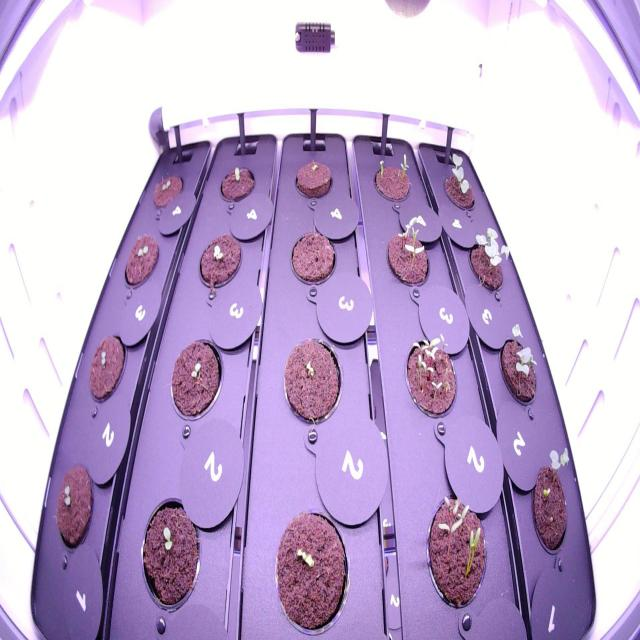germination: (264, 502, 356, 637), (416, 480, 494, 618), (134, 486, 206, 618), (272, 326, 346, 438), (523, 435, 581, 570), (400, 328, 464, 433), (164, 332, 227, 427), (492, 314, 544, 418), (376, 207, 434, 298), (462, 214, 516, 304), (52, 460, 100, 559), (83, 328, 130, 415), (192, 225, 245, 300), (367, 142, 419, 212), (436, 142, 480, 220), (120, 224, 162, 303), (213, 157, 258, 210), (148, 166, 187, 220)
pod: (284, 224, 341, 293), (290, 153, 337, 205)
